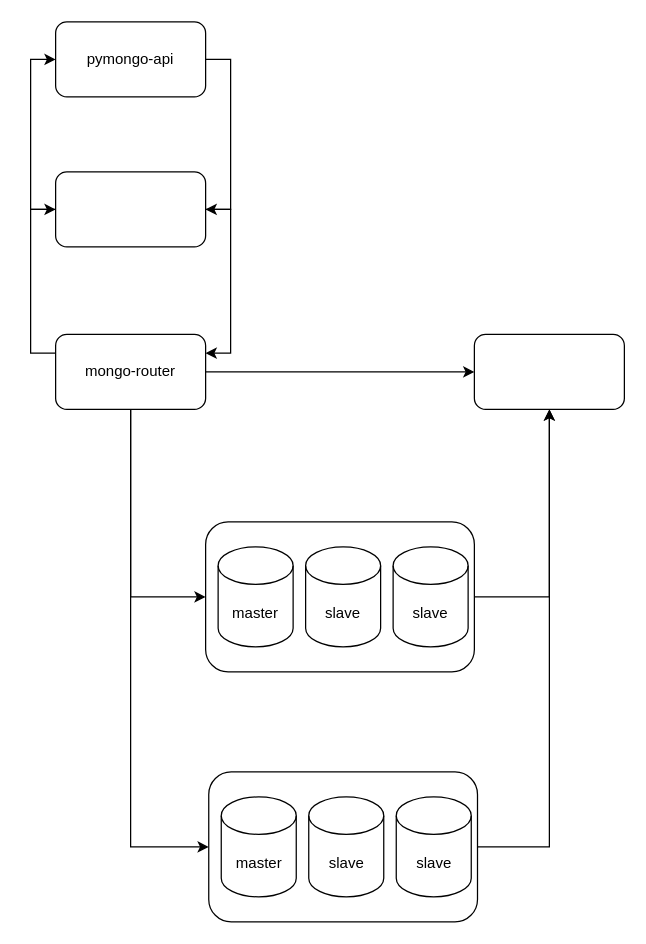
The diagram is 646 pixels wide and 944 high, and some of its shapes have lost their labels. Here are the shapes that lost their labels. From the top down, the box of each, then its label:
(54, 171, 206, 247): redis
(473, 333, 624, 409): mongo-config
